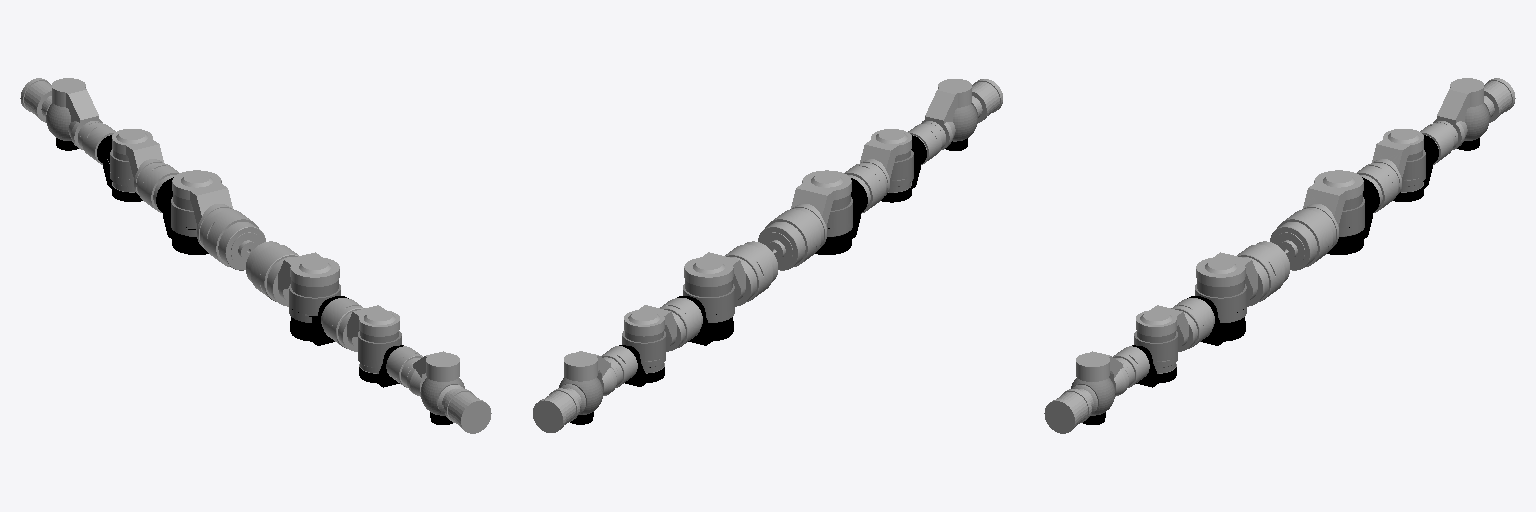
The robot description file, URDF, robot "lwa4d_left":
<?xml version="1.0"?>
<robot  name="lwa4d_left">

  <!-- Differences with lwa4d-->
  <!-- Flip axis 2,4,6,7-->
  <!-- Change initial distance to joint 0 from 0.1375 to 0.12 to have --> 
  <!-- pedestal distance of 0.12 + 0.18 = 0.300 -->
  
  <!-- F/T changes -->
  <!-- December 16th, 2014 -->
  <!-- Changed distance from J6 to Jt from 0.075 to 0.1672 (including the F/T + tool changer) -->
  <!-- Distances from Schunk datasheet -->
  
  
  <!-- Base -->
  <link name="base_link">
    <inertial>
      <origin xyz="0 0 0" rpy="0 0 0"/>
      <mass value="1.0"/>
      <inertia ixx="0.01" ixy="0" ixz="0" iyy="0.01" iyz="0" izz="0.01" />
    </inertial>
  </link>
  
  
  <!-- L1 -->
  <link name="L1_link">
    <inertial>
      <origin xyz="0 0 0" rpy="0 0 0" />
      <!--mass value="5.9907"/-->
      <mass value="2.0"/>
      <inertia ixx="0.01" ixy="0" ixz="0" iyy="0.01" iyz="0" izz="0.01" />
    </inertial>
    
    <visual>
      <origin xyz="0 0 0" rpy="0 0 0" />
      <geometry>
	<mesh filename="package://crichton/meshes/arm_1_link.dae" />
      </geometry> 
      <material name="Schunk_LightGrey">
	<color rgba="0.7 0.7 0.7 1.0"/>
      </material>
    </visual>
    
    <collision>
      <origin xyz="0 0 0" rpy="0 0 0" />
      <geometry>
	<mesh filename="package://crichton/meshes/arm_1_link.stl" />
      </geometry>
    </collision>
  </link>
  

  <!-- L2 -->
  <link name="L2_link">
    <inertial>
      <origin xyz="0 0 0" rpy="0 0 0"/>
      <mass value="2.0"/>
      <inertia ixx="0.03" ixy="0" ixz="0" iyy="0.03" iyz="0" izz="0.03" />
    </inertial>
    
    <visual>
      <origin xyz="0 0 0" rpy="0 0 0" />
      <geometry>
	<mesh filename="package://crichton/meshes/arm_2_link.dae" />
      </geometry>
      <material name="Schunk_Black" />
    </visual>
    
    <collision>
      <origin xyz="0 0 0" rpy="0 0 0" />
      <geometry>
	<mesh filename="package://crichton/meshes/arm_2_link.stl"/>
      </geometry>
    </collision>
  </link>


  <!-- L3 -->
  <link name="L3_link">
    <inertial>
      <origin xyz="0 0 0" rpy="0 0 0"/>
      <mass value="2.0"/>
      <inertia ixx="0.03" ixy="0" ixz="0" iyy="0.03" iyz="0" izz="0.03" />
    </inertial>
    
    <visual>
      <origin xyz="0 0 0" rpy="0 0 0" />
      <geometry>
	<mesh filename="package://crichton/meshes/arm_3_link.dae" />
      </geometry>
      <material name="Schunk_LightGrey" />
    </visual>
    
    <collision>
      <origin xyz="0 0 0" rpy="0 0 0" />
      <geometry>
	<mesh filename="package://crichton/meshes/arm_3_link.stl"/>
      </geometry>
    </collision>
  </link>	
  
  
  <!-- L4 -->  
  <link name="L4_link">
    <inertial>
      <origin xyz="0 0 0" rpy="0 0 0"/>
      <mass value="2.0"/>
      <inertia ixx="0.03" ixy="0" ixz="0" iyy="0.03" iyz="0" izz="0.03" />
    </inertial>
    
    <visual>
      <origin xyz="0 0 0" rpy="0 0 0" />
      <geometry>
	<mesh filename="package://crichton/meshes/arm_4_link.dae" />
      </geometry>
      <material name="Schunk_Black" />
    </visual>
    
    <collision>
      <origin xyz="0 0 0" rpy="0 0 0" />
      <geometry>
	<mesh filename="package://crichton/meshes/arm_4_link.stl"/>
      </geometry>
    </collision>
  </link>
  
  
  <!-- L5 -->
  <link name="L5_link">
    <inertial>
      <origin xyz="0 0 0" rpy="0 0 0"/>
      <mass value="2.313272"/>
      <inertia ixx="0.03" ixy="0" ixz="0" iyy="0.03" iyz="0" izz="0.03" />
    </inertial>
    
    <visual>
      <origin xyz="0 0 0" rpy="0 0 0" />
      <geometry>
	<mesh filename="package://crichton/meshes/arm_5_link_phys.dae" />
      </geometry>
      <material name="Schunk_LightGrey" />
    </visual>
    
    <collision>
      <origin xyz="0 0 0" rpy="0 0 0" />
      <geometry>
	<mesh filename="package://crichton/meshes/arm_5_link_phys.stl"/>
      </geometry>
    </collision>
  </link>
  
  
  
  <!-- L6 -->
  
  <link name="L6_link">
    <inertial>
      <origin xyz="0 0 0" rpy="0 0 0"/>
      <mass value="2.057856"/>
      <inertia ixx="0.01" ixy="0" ixz="0" iyy="0.01" iyz="0" izz="0.01" />
    </inertial>
    
    <visual>
      <origin xyz="0 0 0" rpy="0 0 0" />
      <geometry>
	<mesh filename="package://crichton/meshes/arm_6_link.dae" />
      </geometry>
      <material name="Schunk_Black" />
    </visual>
    
    <collision>
      <origin xyz="0 0 0" rpy="0 0 0" />
      <geometry>
	<mesh filename="package://crichton/meshes/arm_6_link.stl"/>
      </geometry>
    </collision>
  </link>
  
  
  <!-- L7-->
  <link name="L7_link">
    <inertial>
      <origin xyz="0 0 0" rpy="0 0 0"/>
      <mass value="1.120198"/>
      <inertia ixx="0.01" ixy="0" ixz="0" iyy="0.01" iyz="0" izz="0.01" />
    </inertial>
    
    <visual>
      <origin xyz="0 0 0" rpy="0 0 0" />
      <geometry>
	<mesh filename="package://crichton/meshes/arm_7_FT_tool_changers_link.dae" />
      </geometry>
      <material name="Schunk_LightGrey" />
    </visual>
    
    <collision>
      <origin xyz="0 0 0" rpy="0 0 0" />
      <geometry>
	<mesh filename="package://crichton/meshes/arm_7_FT_tool_changers_link.stl"/>
      </geometry>
    </collision>
  </link>
  
  <!-- J0 -->
<!--  <joint name="L0_joint" type="floating" >
    <origin  rpy="0 0 0" xyz="0 0 0" />
    <parent link="world" />
    <child link="L0_link" />
  </joint>-->
  
  <!-- J1 -->
  <joint name="L1_joint" type="revolute">
    <!-- <origin xyz="0 0.1375 0" rpy="1.57 3.1416 0"/> -->
    <origin xyz="0 0.12 0" rpy="1.57 3.1416 0"/>
    <parent link="base_link"/>
    <child link="L1_link"/>
    <axis xyz="0 0 1"/>
    <dynamics damping="10" />
    <limit effort="370" velocity="2.0" lower="-3.14157" upper="3.14157"/>
  </joint>
  
  
  <!-- J2 -->
  <joint name="L2_joint" type="revolute">
    <origin xyz="0 0 -0.18" rpy="-1.57 0 0"/>
    <parent link="L1_link"/>
    <child link="L2_link"/>
    <axis xyz="0 0 -1"/>
    <dynamics damping="10" />
    <limit effort="370" velocity="2.0" lower="-1.97" upper="1.97"/>
  </joint>
  
  
  <!-- J3-->	
  <joint name="L3_joint" type="revolute">
    <origin xyz="0 0 0" rpy="1.57 0 0"/>
    <parent link="L2_link"/>
    <child link="L3_link"/>
    <axis xyz="0 0 1"/>
    <dynamics damping="5" />
    <limit effort="176" velocity="2.0" lower="-3.14157" upper="3.14157"/>
  </joint>
  
  
  <!-- J4 -->
  <joint name="L4_joint" type="revolute">
    <origin xyz="0 0 -0.328" rpy="-1.57 0 0"/>
    <parent link="L3_link"/>
    <child link="L4_link"/>
    <axis xyz="0 0 -1" />
    <dynamics damping="5" />
    <limit effort="176" velocity="2.0" lower="-2.08208" upper="2.08208"/>
  </joint>
  
  
  <!-- J5 -->
  <joint name="L5_joint" type="revolute">
    <origin xyz="0 0 0" rpy="1.57 0 0" />
    <parent link="L4_link"/>
    <child link="L5_link"/>
    <axis xyz="0 0 1" />
    <dynamics damping="5" />
    <limit effort="41.6" velocity="2.0" lower="-3.14157" upper="3.14157" />
  </joint>
  
  
  <!-- J6 -->
  <joint name="L6_joint" type="revolute">
    <origin xyz="0 0 -0.323" rpy="1.57 0 0" />
    <parent link="L5_link"/>
    <child link="L6_link"/>
    <axis xyz="0 0 -1" />
    <dynamics damping="5" />
    <limit effort="20.1" velocity="2.0" lower="-1.8" upper="1.8" /> <!-- Data sheet says +/-170. Why did we set lower values? -->
  </joint>
  
  <!-- J7-->
  
  <joint name="L7_joint" type="revolute">
    <origin xyz="0 -0.1672 0" rpy="-1.57 0 0" />
    <parent link="L6_link"/>
    <child link="L7_link"/>
    <axis xyz="0 0 -1" />
    <dynamics damping="5" />
    <limit effort="9.6" velocity="2.0" lower="-3.14157" upper="3.14157" />
  </joint>

  <!-- **************** -->
  <!--       RIGHT      -->
  <!-- **************** -->
  
  <!-- L1 -->
  <link name="R1_link">
    <inertial>
      <origin xyz="0 0 0" rpy="0 0 0" />
      <!--mass value="5.9907"/-->
      <mass value="2.0"/>
      <inertia ixx="0.01" ixy="0" ixz="0" iyy="0.01" iyz="0" izz="0.01" />
    </inertial>
    
    <visual>
      <origin xyz="0 0 0" rpy="0 0 0" />
      <geometry>
	<mesh filename="package://crichton/meshes/arm_1_link.dae" />
      </geometry>
      <material name="Schunk_LightGrey">
	<color rgba="0.7 0.7 0.7 1.0"/>
      </material>
    </visual>
    
    <collision>
      <origin xyz="0 0 0" rpy="0 0 0" />
      <geometry>
	<mesh filename="package://crichton/meshes/arm_1_link.stl" />
      </geometry>
    </collision>
  </link>
  
  
  <!-- L2 -->
  <link name="R2_link">
    <inertial>
      <origin xyz="0 0 0" rpy="0 0 0"/>
      <mass value="2.0"/>
      <inertia ixx="0.03" ixy="0" ixz="0" iyy="0.03" iyz="0" izz="0.03" />
    </inertial>
    
    <visual>
      <origin xyz="0 0 0" rpy="0 0 0" />
      <geometry>
	<mesh filename="package://crichton/meshes/arm_2_link.dae" />
      </geometry>
      <material name="Schunk_Black" />
    </visual>
    
    <collision>
      <origin xyz="0 0 0" rpy="0 0 0" />
      <geometry>
	<mesh filename="package://crichton/meshes/arm_2_link.dae"/>
      </geometry>
    </collision>
  </link>
  
  
  <!-- L3 -->
  <link name="R3_link">
    <inertial>
      <origin xyz="0 0 0" rpy="0 0 0"/>
      <mass value="2.0"/>
      <inertia ixx="0.03" ixy="0" ixz="0" iyy="0.03" iyz="0" izz="0.03" />
    </inertial>
    
    <visual>
      <origin xyz="0 0 0" rpy="0 0 0" />
      <geometry>
	<mesh filename="package://crichton/meshes/arm_3_link.dae" />
      </geometry>
      <material name="Schunk_LightGrey" />
    </visual>
    
    <collision>
      <origin xyz="0 0 0" rpy="0 0 0" />
      <geometry>
	<mesh filename="package://crichton/meshes/arm_3_link.dae"/>
      </geometry>
    </collision>
  </link>	
  
  
  <!-- L4 -->  
  <link name="R4_link">
    <inertial>
      <origin xyz="0 0 0" rpy="0 0 0"/>
      <mass value="2.0"/>
      <inertia ixx="0.03" ixy="0" ixz="0" iyy="0.03" iyz="0" izz="0.03" />
    </inertial>
    
    <visual>
      <origin xyz="0 0 0" rpy="0 0 0" />
      <geometry>
	<mesh filename="package://crichton/meshes/arm_4_link.dae" />
      </geometry>
      <material name="Schunk_Black" />
    </visual>
    
    <collision>
      <origin xyz="0 0 0" rpy="0 0 0" />
      <geometry>
	<mesh filename="package://crichton/meshes/arm_4_link.dae"/>
      </geometry>
    </collision>
  </link>
  
  
  <!-- L5 -->
  <link name="R5_link">
    <inertial>
      <origin xyz="0 0 0" rpy="0 0 0"/>
      <mass value="2.313272"/>
      <inertia ixx="0.03" ixy="0" ixz="0" iyy="0.03" iyz="0" izz="0.03" />
    </inertial>
    
    <visual>
      <origin xyz="0 0 0" rpy="0 0 0" />
      <geometry>
	<mesh filename="package://crichton/meshes/arm_5_link_phys.dae" />
      </geometry>
      <material name="Schunk_LightGrey" />
    </visual>
    
    <collision>
      <origin xyz="0 0 0" rpy="0 0 0" />
      <geometry>
	<mesh filename="package://crichton/meshes/arm_5_link_phys.dae"/>
      </geometry>
    </collision>
  </link>
  
  
  
  <!-- L6 -->
  
  <link name="R6_link">
    <inertial>
      <origin xyz="0 0 0" rpy="0 0 0"/>
      <mass value="2.057856"/>
      <inertia ixx="0.01" ixy="0" ixz="0" iyy="0.01" iyz="0" izz="0.01" />
    </inertial>
    
    <visual>
      <origin xyz="0 0 0" rpy="0 0 0" />
      <geometry>
	<mesh filename="package://crichton/meshes/arm_6_link.dae" />
      </geometry>
      <material name="Schunk_Black" />
    </visual>
    
    <collision>
      <origin xyz="0 0 0" rpy="0 0 0" />
      <geometry>
	<mesh filename="package://crichton/meshes/arm_6_link.dae"/>
      </geometry>
    </collision>
  </link>
  
  
  <!-- L7-->
  <link name="R7_link">
    <inertial>
      <origin xyz="0 0 0" rpy="0 0 0"/>
      <mass value="1.120198"/>
      <inertia ixx="0.01" ixy="0" ixz="0" iyy="0.01" iyz="0" izz="0.01" />
    </inertial>
    
    <visual>
      <origin xyz="0 0 0" rpy="0 0 0" />
      <geometry>
	<mesh filename="package://crichton/meshes/arm_7_FT_tool_changers_link.dae" />
      </geometry>
      <material name="Schunk_LightGrey" />
    </visual>
    
    <collision>
      <origin xyz="0 0 0" rpy="0 0 0" />
      <geometry>
	<mesh filename="package://crichton/meshes/arm_7_FT_tool_changers_link.dae"/>
      </geometry>
    </collision>
  </link>
  
  
  <!-- J1 -->
  <joint name="R1_joint" type="revolute">
    <!-- <origin xyz="0 0.1375 0" rpy="1.57 3.1416 0"/> -->
    <origin xyz="0 -0.12 0" rpy="-1.57 0 0"/>
    <parent link="base_link"/>
    <child link="R1_link"/>
    <axis xyz="0 0 1"/>
    <dynamics damping="10" />
    <limit effort="370" velocity="2.0" lower="-3.14157" upper="3.14157"/>
  </joint>
  
  
  <!-- J2 -->
  <joint name="R2_joint" type="revolute">
    <origin xyz="0 0 -0.18" rpy="-1.57 0 0"/>
    <parent link="R1_link"/>
    <child link="R2_link"/>
    <axis xyz="0 0 -1"/>
    <dynamics damping="10" />
    <limit effort="370" velocity="2.0" lower="-1.97" upper="1.97"/>
  </joint>
  
  
  <!-- J3-->	
  <joint name="R3_joint" type="revolute">
    <origin xyz="0 0 0" rpy="1.57 0 0"/>
    <parent link="R2_link"/>
    <child link="R3_link"/>
    <axis xyz="0 0 1"/>
    <dynamics damping="5" />
    <limit effort="176" velocity="2.0" lower="-3.14157" upper="3.14157"/>
  </joint>
  
  
  <!-- J4 -->
  <joint name="R4_joint" type="revolute">
    <origin xyz="0 0 -0.328" rpy="-1.57 0 0"/>
    <parent link="R3_link"/>
    <child link="R4_link"/>
    <axis xyz="0 0 -1" />
    <dynamics damping="5" />
    <limit effort="176" velocity="2.0" lower="-2.08208" upper="2.08208"/>
  </joint>
  
  
  <!-- J5 -->
  <joint name="R5_joint" type="revolute">
    <origin xyz="0 0 0" rpy="1.57 0 0" />
    <parent link="R4_link"/>
    <child link="R5_link"/>
    <axis xyz="0 0 1" />
    <dynamics damping="5" />
    <limit effort="41.6" velocity="2.0" lower="-3.14157" upper="3.14157" />
  </joint>
  
  
  <!-- J6 -->
  <joint name="R6_joint" type="revolute">
    <origin xyz="0 0 -0.323" rpy="1.57 0 0" />
    <parent link="R5_link"/>
    <child link="R6_link"/>
    <axis xyz="0 0 -1" />
    <dynamics damping="5" />
    <limit effort="20.1" velocity="2.0" lower="-1.8" upper="1.8" /> <!-- Data sheet says +/-170. Why did we set lower values? -->
  </joint>
  
  <!-- J7-->
  
  <joint name="R7_joint" type="revolute">
    <origin xyz="0 -0.1672 0" rpy="-1.57 0 0" />
    <parent link="R6_link"/>
    <child link="R7_link"/>
    <axis xyz="0 0 -1" />
    <dynamics damping="5" />
    <limit effort="9.6" velocity="2.0" lower="-3.14157" upper="3.14157" />
  </joint>
  
  
</robot>

--- Render facts (derived) ---
Views: 3 orthographic renders of the robot side by side, from view 1: azimuth 30°, elevation 25°; view 2: azimuth 150°, elevation 25°; view 3: azimuth 330°, elevation 25°.
Robot: lwa4d_left — 15 links, 14 joints (14 revolute); root link base_link; default pose: every joint at zero.
Visible links, largest first — view 1: L1_link, R1_link, R3_link, L3_link, L5_link, R5_link, R2_link, L2_link, R7_link, R4_link, L4_link, L7_link (+2 smaller); view 2: R1_link, L1_link, L3_link, R3_link, R5_link, L5_link, L2_link, R2_link, L7_link, L4_link, R4_link, R7_link (+2 smaller); view 3: L1_link, R1_link, R3_link, L3_link, L5_link, R5_link, R2_link, L2_link, R7_link, R4_link, L4_link, L7_link (+2 smaller).
Boxes of the visible links, <box> form: L1_link: <box>172,170,265,270</box>; R1_link: <box>246,241,339,306</box>; R3_link: <box>321,298,399,351</box>; L3_link: <box>112,129,178,212</box>; L5_link: <box>52,78,115,164</box>; R5_link: <box>386,346,459,396</box>; R2_link: <box>289,280,348,345</box>; L2_link: <box>156,177,208,254</box>; R7_link: <box>438,385,491,433</box>; R4_link: <box>358,331,403,387</box>; L4_link: <box>97,135,142,201</box>; L7_link: <box>20,78,51,122</box>; R1_link: <box>758,170,851,270</box>; L1_link: <box>684,241,777,306</box>; L3_link: <box>624,298,702,351</box>; R3_link: <box>844,129,911,213</box>; R5_link: <box>908,79,971,164</box>; L5_link: <box>564,346,637,395</box>; L2_link: <box>677,280,734,345</box>; R2_link: <box>815,178,867,254</box>; L7_link: <box>533,384,585,432</box>; L4_link: <box>619,330,665,386</box>; R4_link: <box>881,135,926,202</box>; R7_link: <box>971,79,1002,123</box>; L1_link: <box>1270,170,1363,270</box>; R1_link: <box>1196,241,1289,306</box>; R3_link: <box>1136,298,1214,351</box>; L3_link: <box>1357,129,1423,212</box>; L5_link: <box>1420,78,1483,164</box>; R5_link: <box>1076,346,1149,396</box>; R2_link: <box>1187,280,1246,345</box>; L2_link: <box>1327,177,1379,254</box>; R7_link: <box>1044,385,1097,433</box>; R4_link: <box>1132,331,1177,387</box>; L4_link: <box>1393,135,1438,201</box>; L7_link: <box>1484,78,1515,122</box>.
Bounding box of the posed robot: 0.132 × 2.24 × 0.1876 m (x, y, z).
14 mesh visuals loaded from 7 distinct referenced files (7 Collada DAE).
